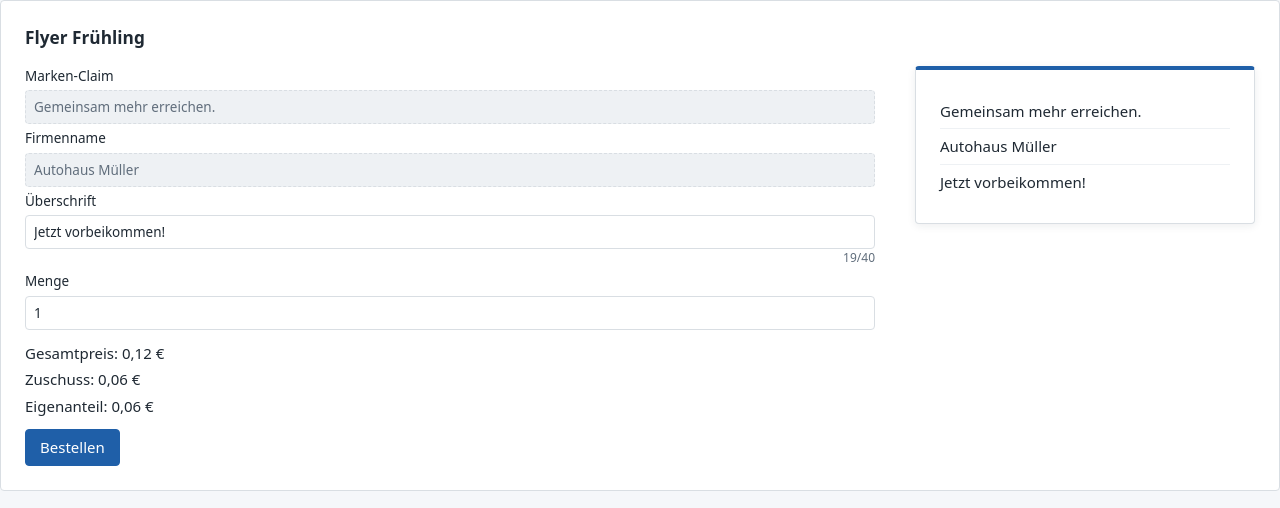
Test: TemplateEditorPage › ui6_orderButtonDisabledForInvalidQuantity
This screenshot has width=1280, height=508.
Check: the button "Bestellen" is enabled, box top-left (25, 429), bottom-right (120, 466)
Clear the number field labelled "Menge": (450, 313) top-left (25, 296), bottom-right (875, 330)
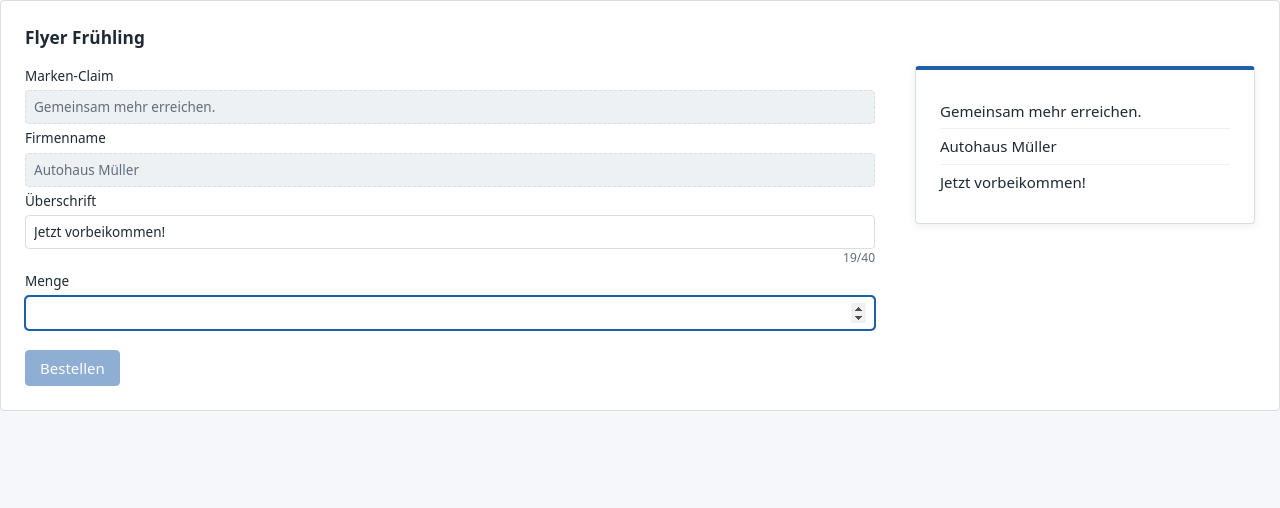
Check: the button "Bestellen" is disabled, box top-left (25, 350), bottom-right (120, 386)
In the number field labelled "Menge": (450, 313) top-left (25, 296), bottom-right (875, 330), type "0"
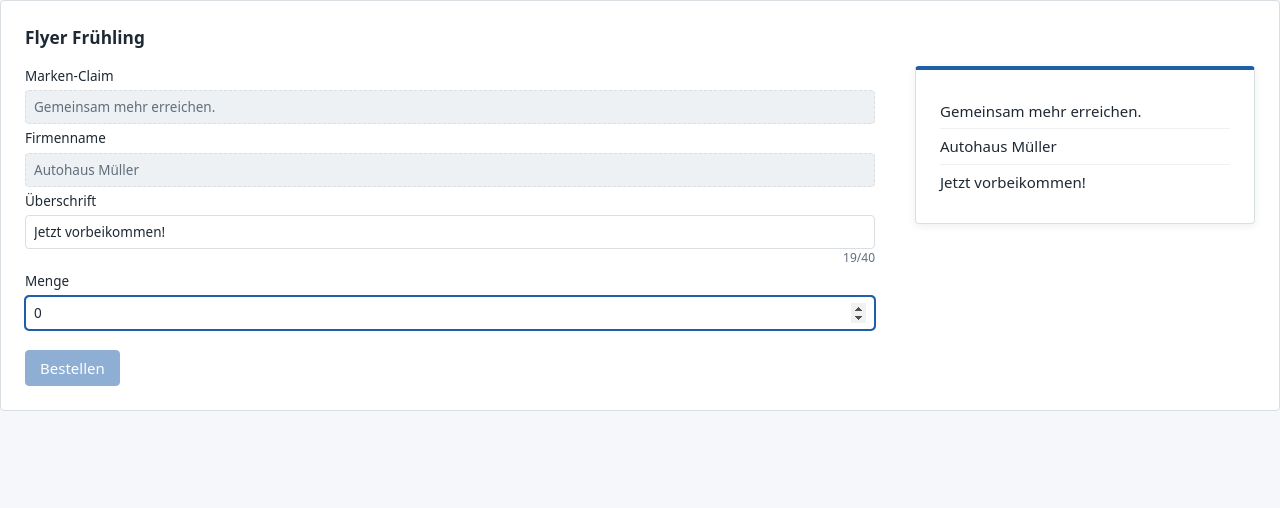
Check: the button "Bestellen" is disabled, box top-left (25, 350), bottom-right (120, 386)
Replace the text in the number field labelled "Menge" with "1.5": (450, 313) top-left (25, 296), bottom-right (875, 330)
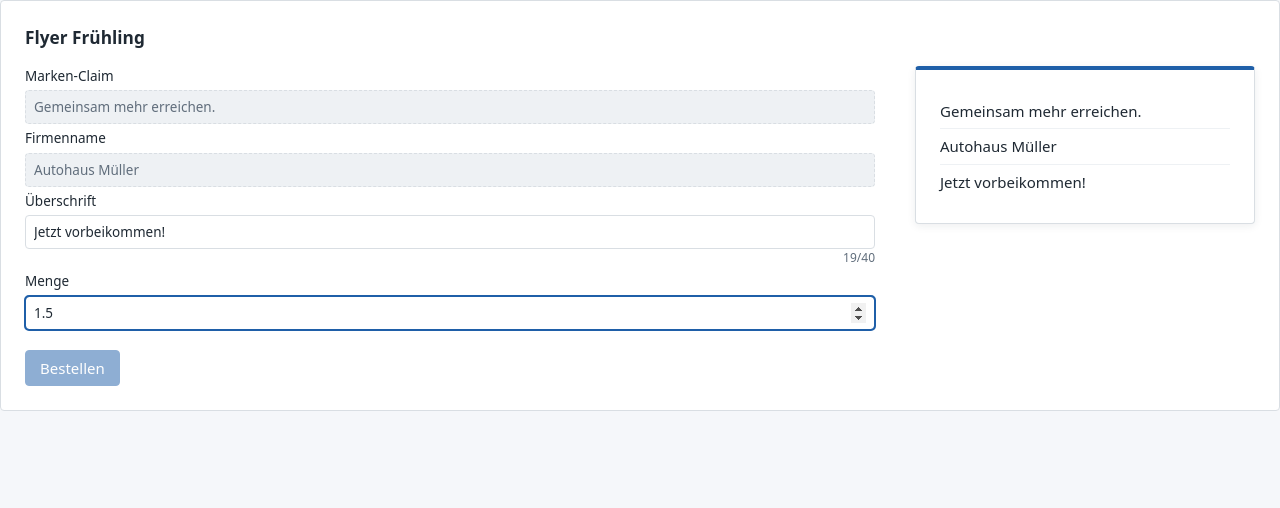
Check: the button "Bestellen" is disabled, box top-left (25, 350), bottom-right (120, 386)
Replace the text in the number field labelled "Menge" with "2": (450, 313) top-left (25, 296), bottom-right (875, 330)
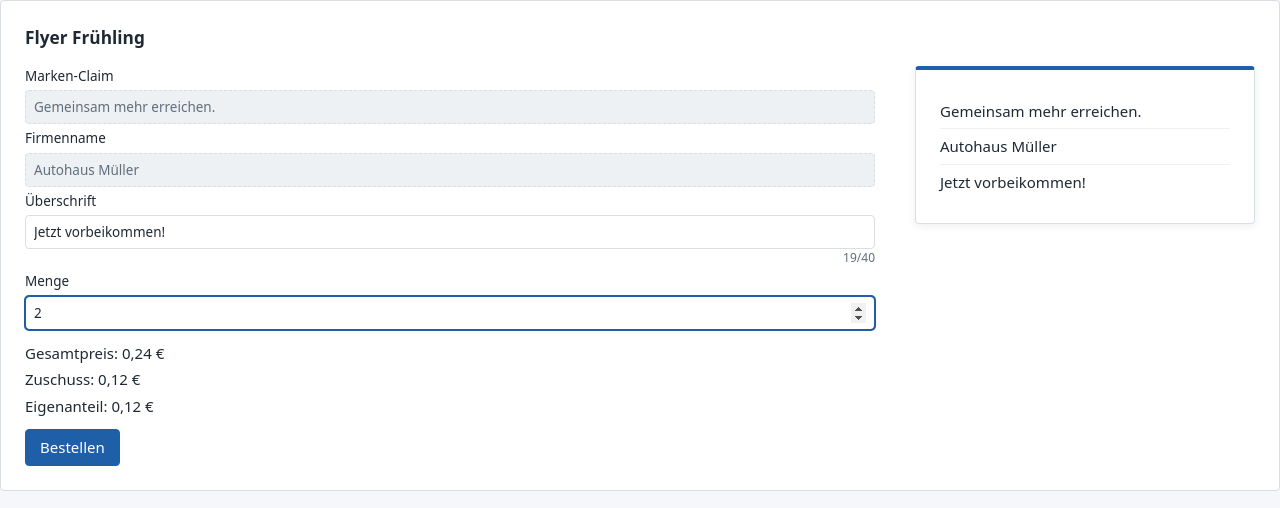
Check: the button "Bestellen" is enabled, box top-left (25, 429), bottom-right (120, 466)
